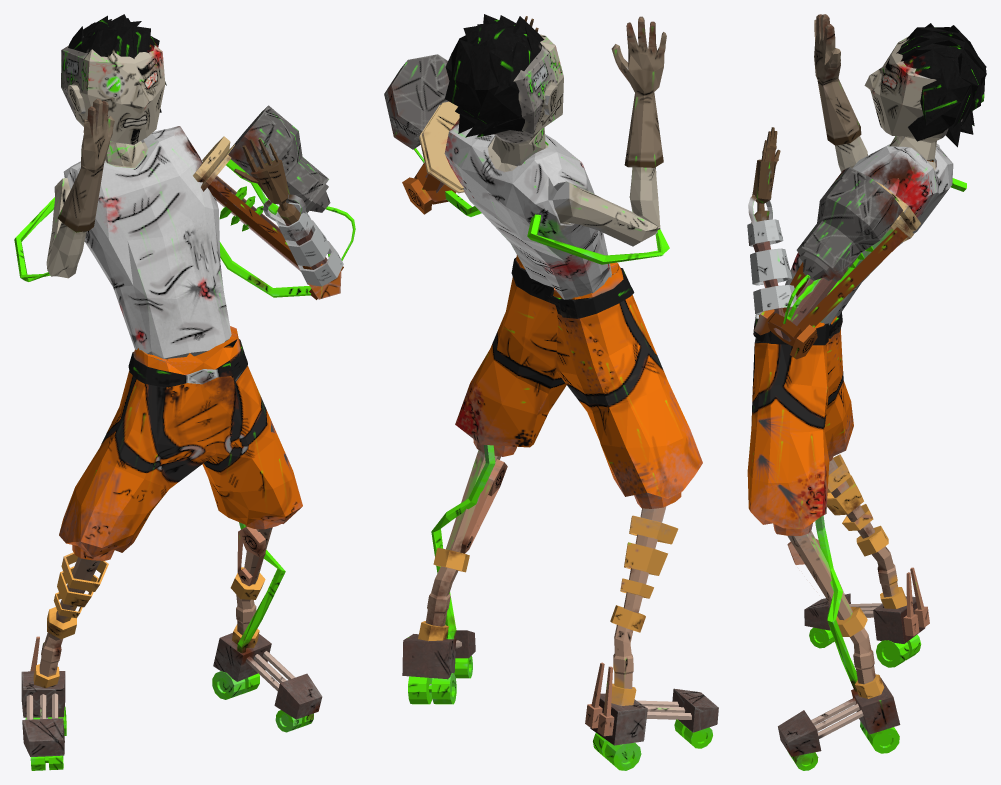
Rendered from CyborgFINALAnimation_000007.obj.
3 renders of one model, left to right at view 1: azimuth 30°, elevation 25°; view 2: azimuth 150°, elevation 25°; view 3: azimuth 270°, elevation 25°, orthographic. The views are drawn at different scales.
Visible parts, largest first — view 1: CyborgMesh_Cube.002; view 2: CyborgMesh_Cube.002; view 3: CyborgMesh_Cube.002.
Boxes of the visible parts, x1=… form: CyborgMesh_Cube.002: x1=14, y1=14, x2=355, y2=770; CyborgMesh_Cube.002: x1=384, y1=14, x2=718, y2=770; CyborgMesh_Cube.002: x1=747, y1=14, x2=986, y2=770.
Bounding box in the file's own units: 4.35 × 9.18 × 2.93.
